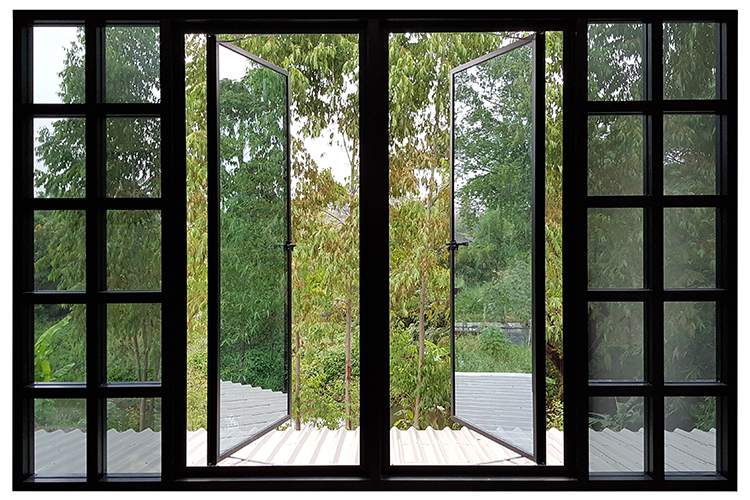Window: (174, 19, 579, 474), (18, 16, 164, 485), (586, 17, 728, 485)
